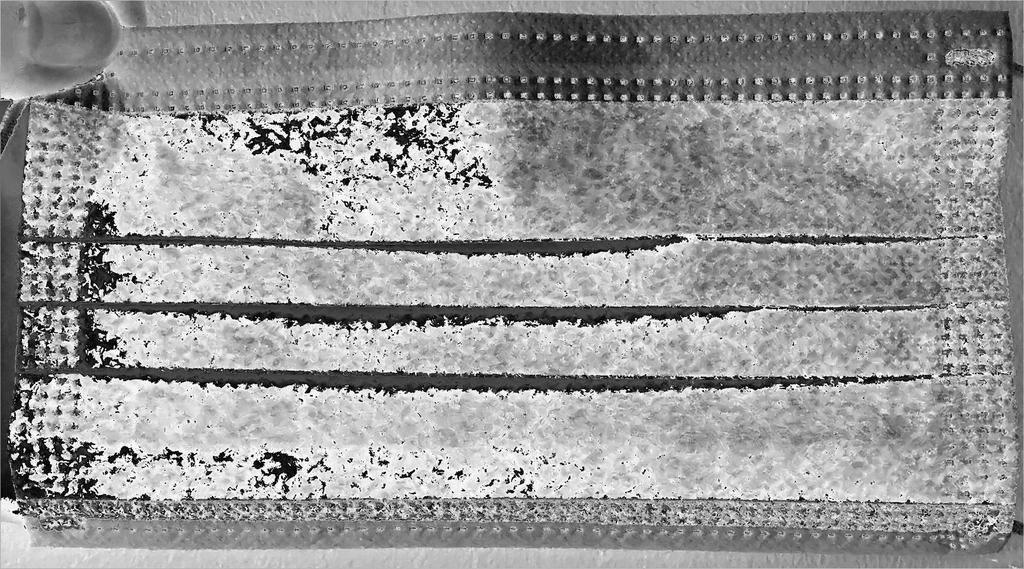High GSM: (12, 99, 515, 499)
